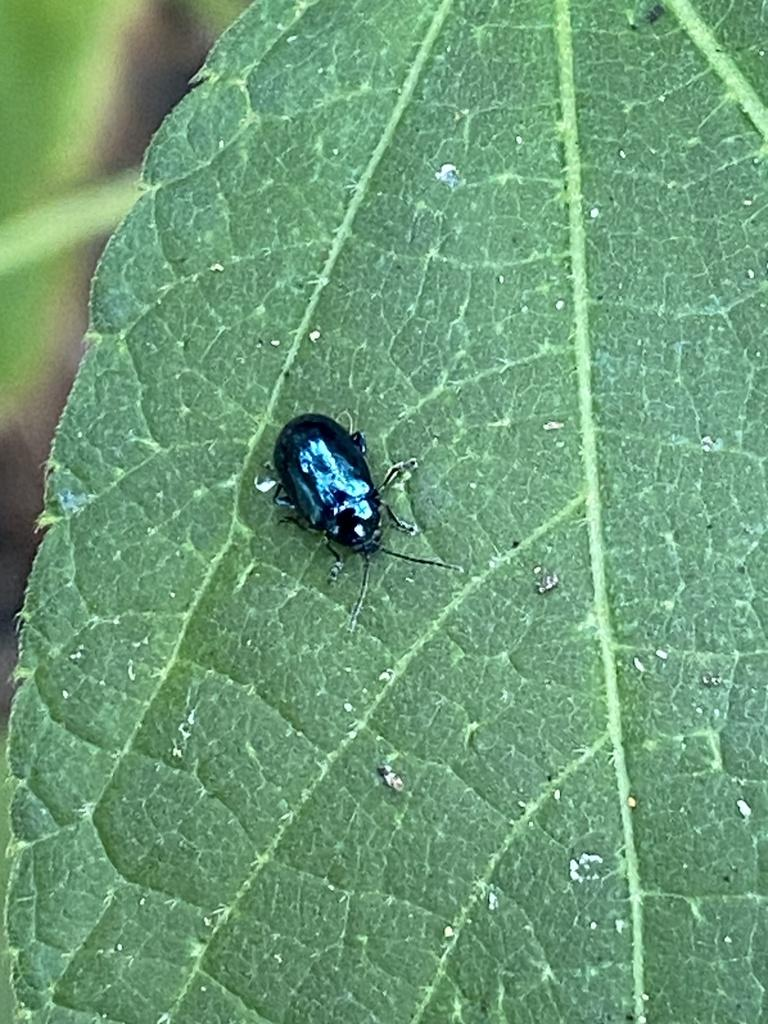flea_beetle: (232, 367, 499, 644)
